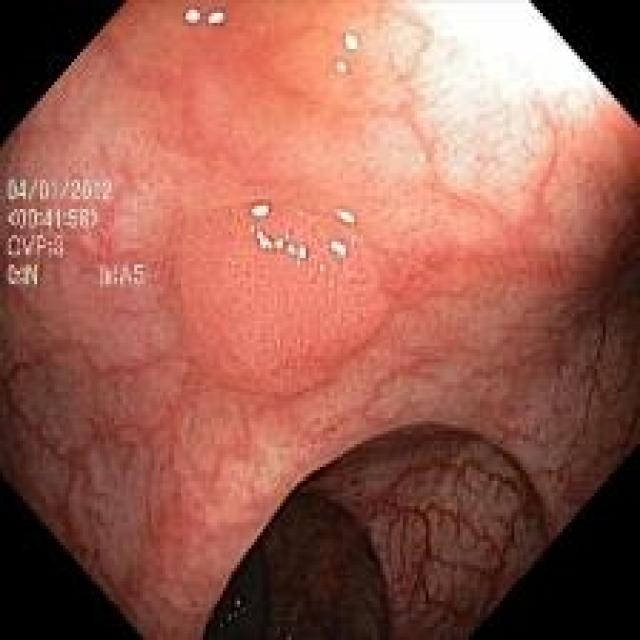Polyps: (176, 201, 385, 396)
